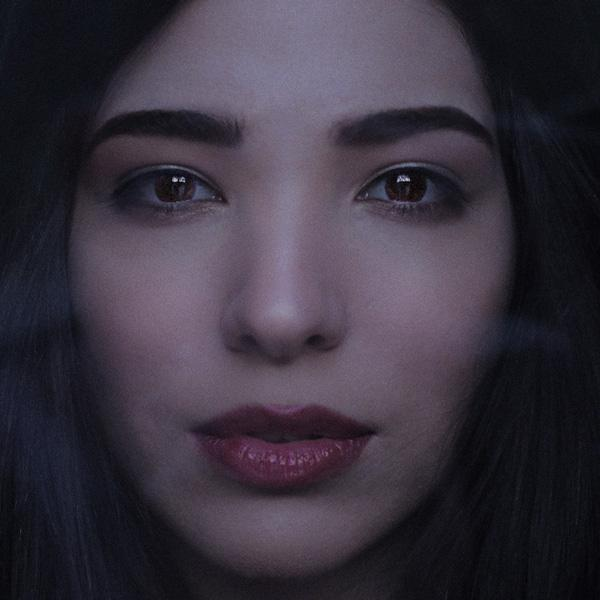Eyes: (99, 148, 233, 232), (342, 149, 473, 230)
